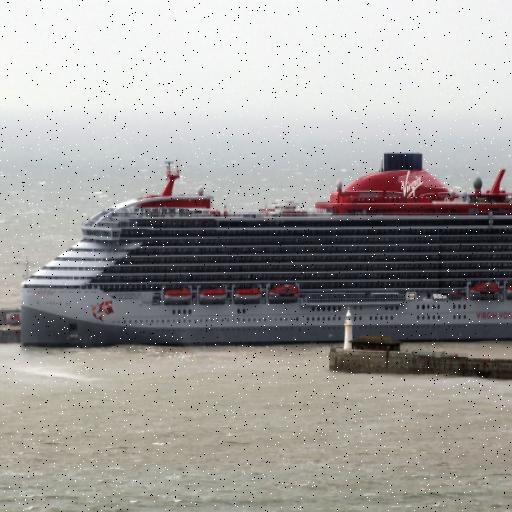cruises: (16, 147, 512, 359)
